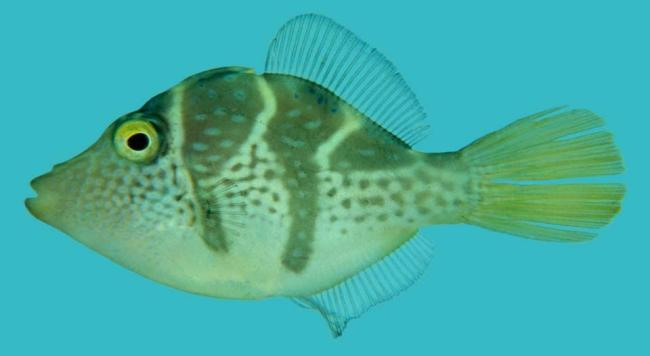fish: (25, 65, 626, 301)
